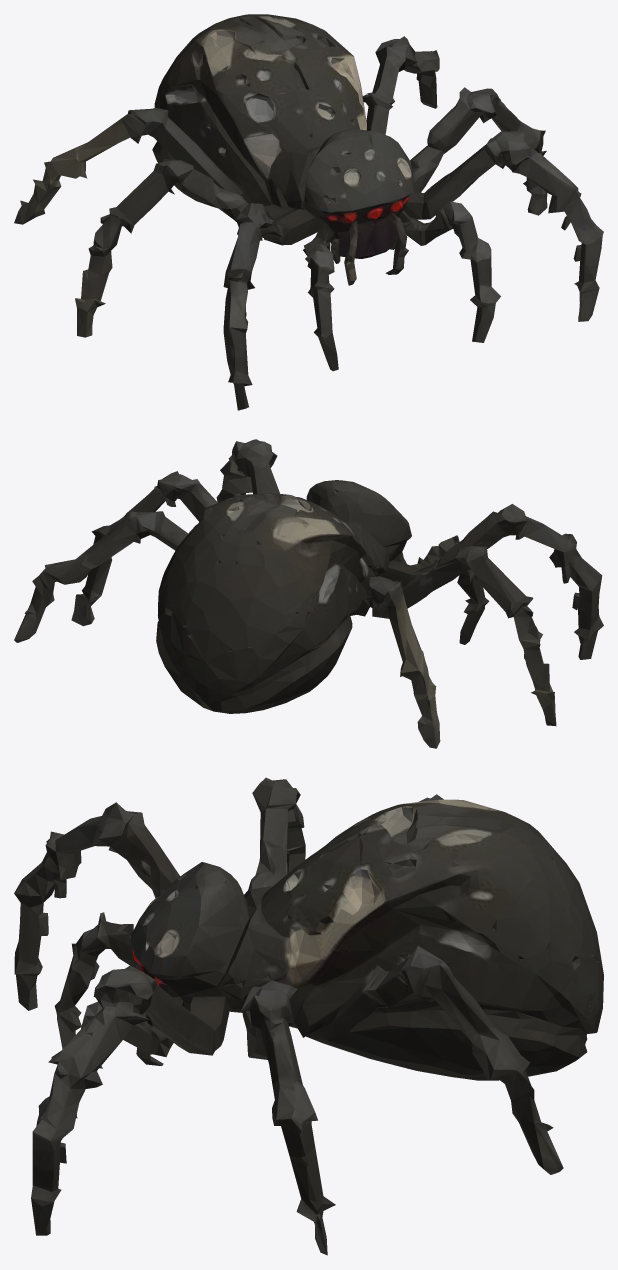
The model's file is cave_creeper.glb.
3 views of the same model, one above another, from view 1: azimuth 30°, elevation 25°; view 2: azimuth 150°, elevation 25°; view 3: azimuth 270°, elevation 25° (orthographic). The views are drawn at different scales.
Visible parts, largest first — view 1: tripo_node_6ea096ee-8522-4731-8117-9026312ce9a5; view 2: tripo_node_6ea096ee-8522-4731-8117-9026312ce9a5; view 3: tripo_node_6ea096ee-8522-4731-8117-9026312ce9a5.
Boxes of the visible parts, bbox=[...] form: tripo_node_6ea096ee-8522-4731-8117-9026312ce9a5: bbox=[14, 14, 603, 410]; tripo_node_6ea096ee-8522-4731-8117-9026312ce9a5: bbox=[14, 439, 603, 748]; tripo_node_6ea096ee-8522-4731-8117-9026312ce9a5: bbox=[14, 777, 603, 1255].
Size of the model in its own units: 0.9997 by 0.444 by 0.782.
1 material, 1 textured.
